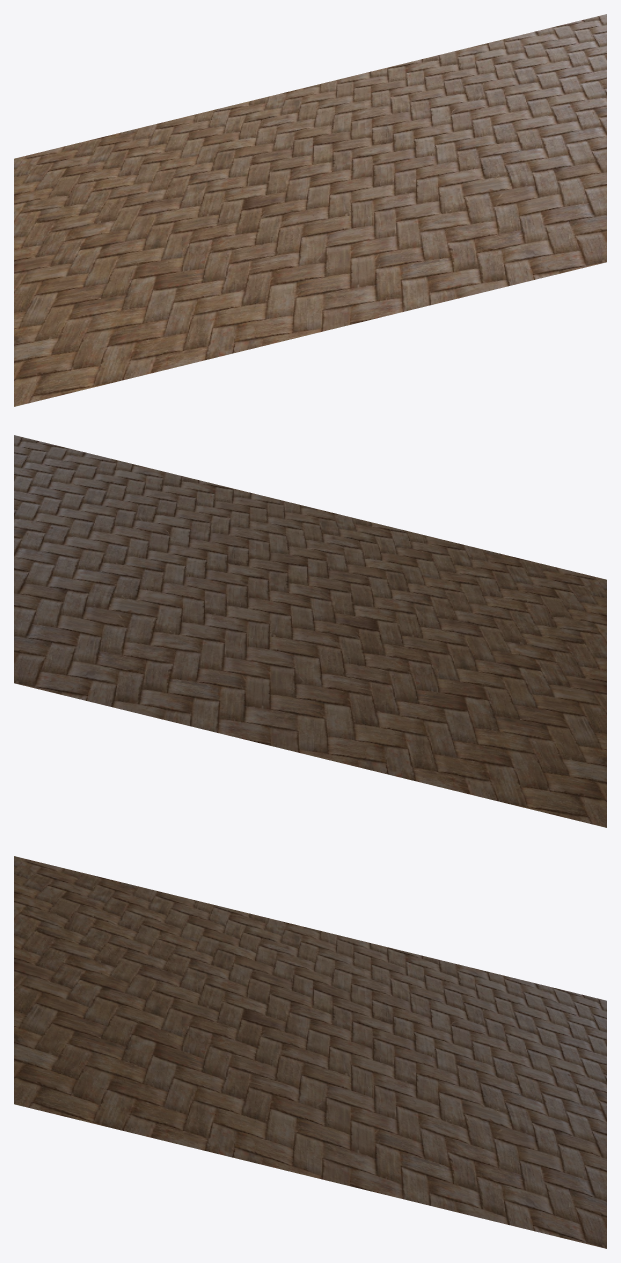
3 views of the same model, one above another, from view 1: azimuth 30°, elevation 25°; view 2: azimuth 150°, elevation 25°; view 3: azimuth 330°, elevation 25° (orthographic).
Parts seen in each view (by area): view 1: Plane; view 2: Plane; view 3: Plane.
Part boxes in pixels (bbox=[...]): Plane: bbox=[14, 14, 606, 406]; Plane: bbox=[14, 435, 606, 827]; Plane: bbox=[14, 856, 606, 1248].
Bounding box in the file's own units: 1 × 0.4 × 8.88e-17.
Materials: 1 (1 with a texture image).
